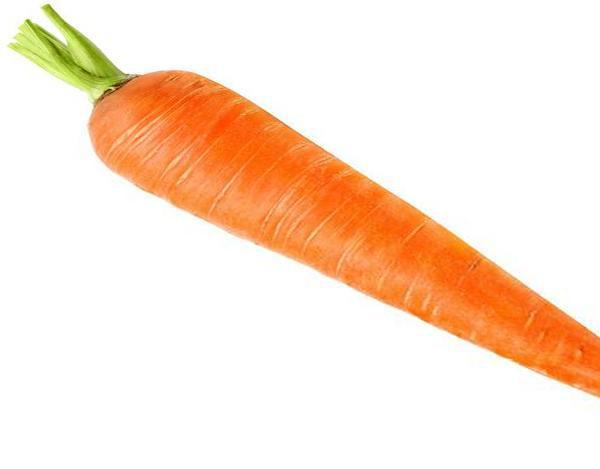carrot: (19, 23, 600, 398)
